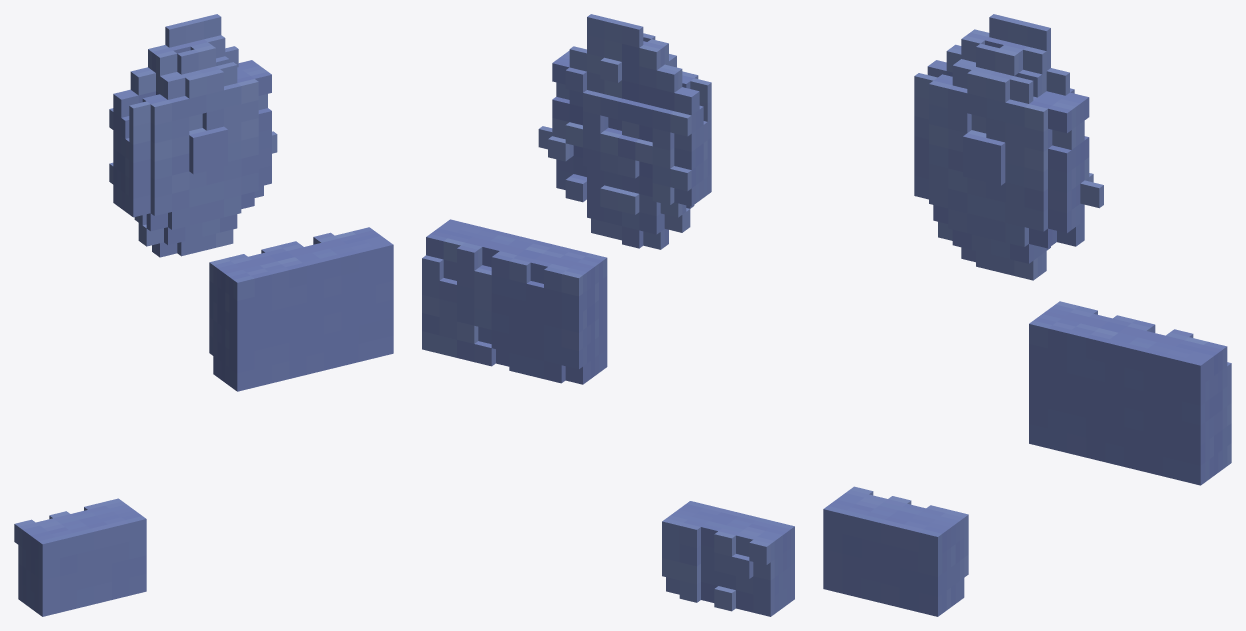
File: ours.glb
3 views of the same model, side by side, from view 1: azimuth 30°, elevation 25°; view 2: azimuth 150°, elevation 25°; view 3: azimuth 330°, elevation 25° (orthographic). The views are drawn at different scales.
Visible parts, largest first — view 1: world; view 2: world; view 3: world.
Part boxes in pixels (x1=…): world: x1=14, y1=14, x2=393, y2=616; world: x1=422, y1=14, x2=794, y2=616; world: x1=823, y1=14, x2=1231, y2=616.
Bounding box in the file's own units: 3.12 × 4.69 × 0.625.
